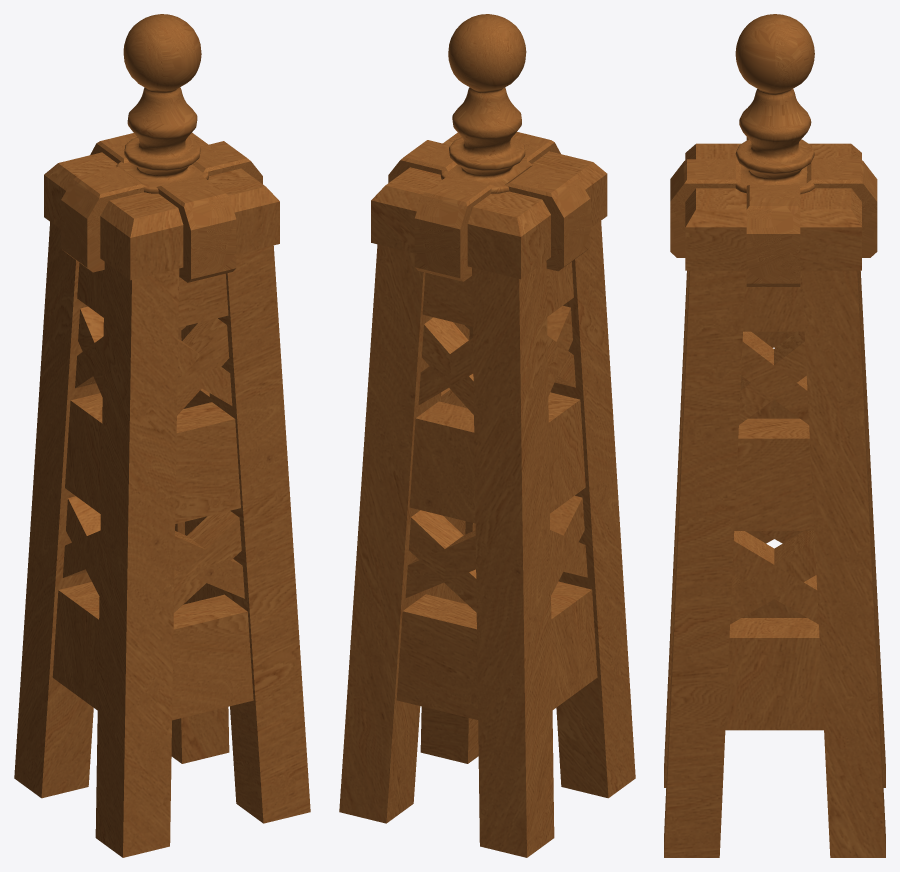
Rendered from TorreTesla.fbx.
3 renders of one model, left to right at view 1: azimuth 30°, elevation 25°; view 2: azimuth 150°, elevation 25°; view 3: azimuth 270°, elevation 25°, orthographic. The views are drawn at different scales.
Visible parts, largest first — view 1: BasedeTorreTesla001, PuntadeTorreTesla001, Uniondetorre007, Uniondetorre008, Uniondetorre005, Uniondetorre006; view 2: BasedeTorreTesla001, PuntadeTorreTesla001, Uniondetorre006, Uniondetorre008, Uniondetorre005, Uniondetorre007; view 3: BasedeTorreTesla001, PuntadeTorreTesla001, Uniondetorre005, Uniondetorre007, Uniondetorre006.
Part boxes in pixels (<box>): BasedeTorreTesla001: <box>14,132,310,857</box>; PuntadeTorreTesla001: <box>116,14,208,193</box>; Uniondetorre007: <box>156,176,236,282</box>; Uniondetorre008: <box>61,166,146,272</box>; Uniondetorre005: <box>192,141,262,183</box>; Uniondetorre006: <box>90,133,136,163</box>; BasedeTorreTesla001: <box>339,132,635,857</box>; PuntadeTorreTesla001: <box>440,14,532,193</box>; Uniondetorre006: <box>414,175,494,281</box>; Uniondetorre008: <box>504,165,590,271</box>; Uniondetorre005: <box>388,140,457,182</box>; Uniondetorre007: <box>512,132,560,163</box>; BasedeTorreTesla001: <box>664,143,885,857</box>; PuntadeTorreTesla001: <box>735,14,814,194</box>; Uniondetorre005: <box>746,185,800,286</box>; Uniondetorre007: <box>670,159,740,257</box>; Uniondetorre006: <box>806,159,877,257</box>.
Size of the model in its own units: 955 by 3779 by 957.
